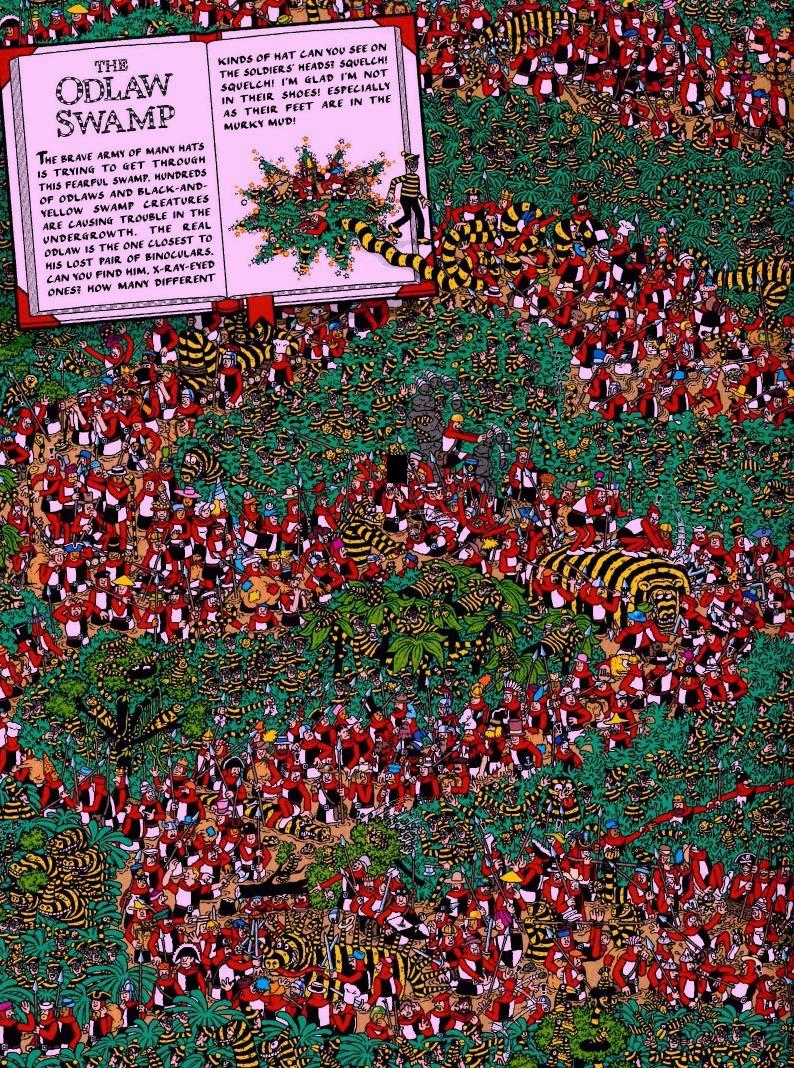waldos: (514, 313, 534, 341)
